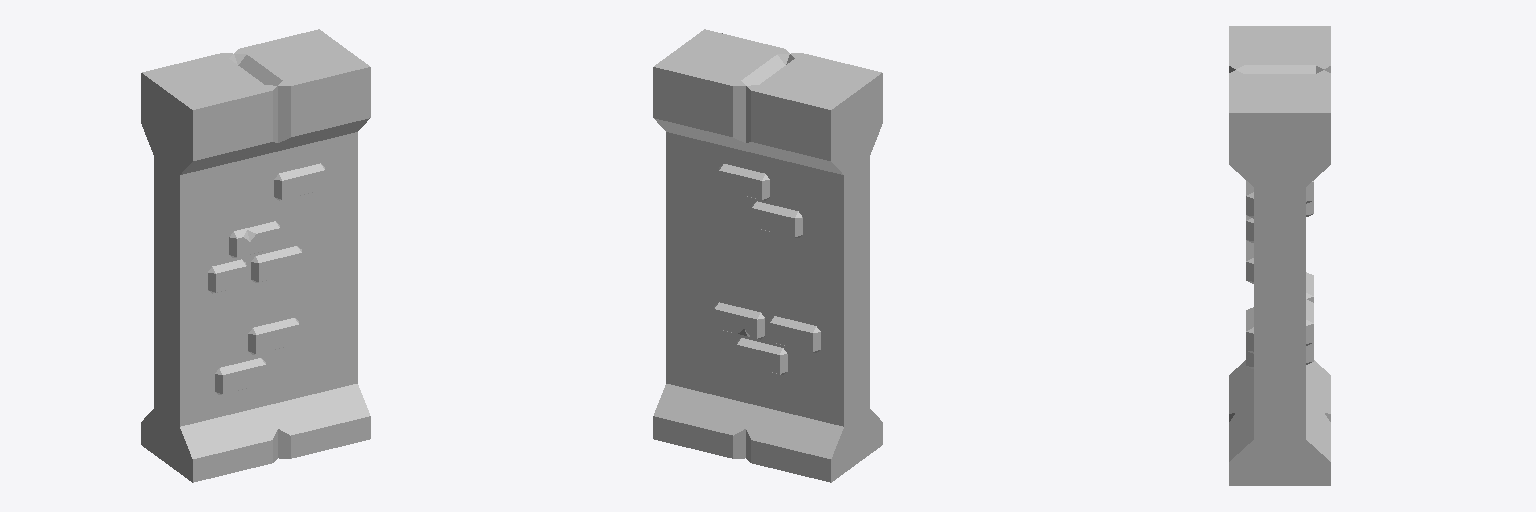
File: wall_half.obj
3 renders of one model, left to right at view 1: azimuth 30°, elevation 25°; view 2: azimuth 150°, elevation 25°; view 3: azimuth 270°, elevation 25°, orthographic.
Visible parts, largest first — view 1: wall_half; view 2: wall_half; view 3: wall_half.
Part boxes in pixels (left/top/right/bottom): wall_half: left=141, top=29, right=370, bottom=482; wall_half: left=653, top=29, right=882, bottom=482; wall_half: left=1229, top=26, right=1330, bottom=485.
Bounding box in the file's own units: 2 × 4 × 1.